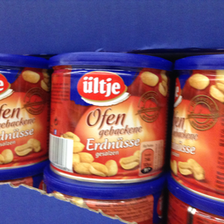nuts: (46, 52, 174, 184), (170, 52, 224, 197), (1, 53, 50, 169)
